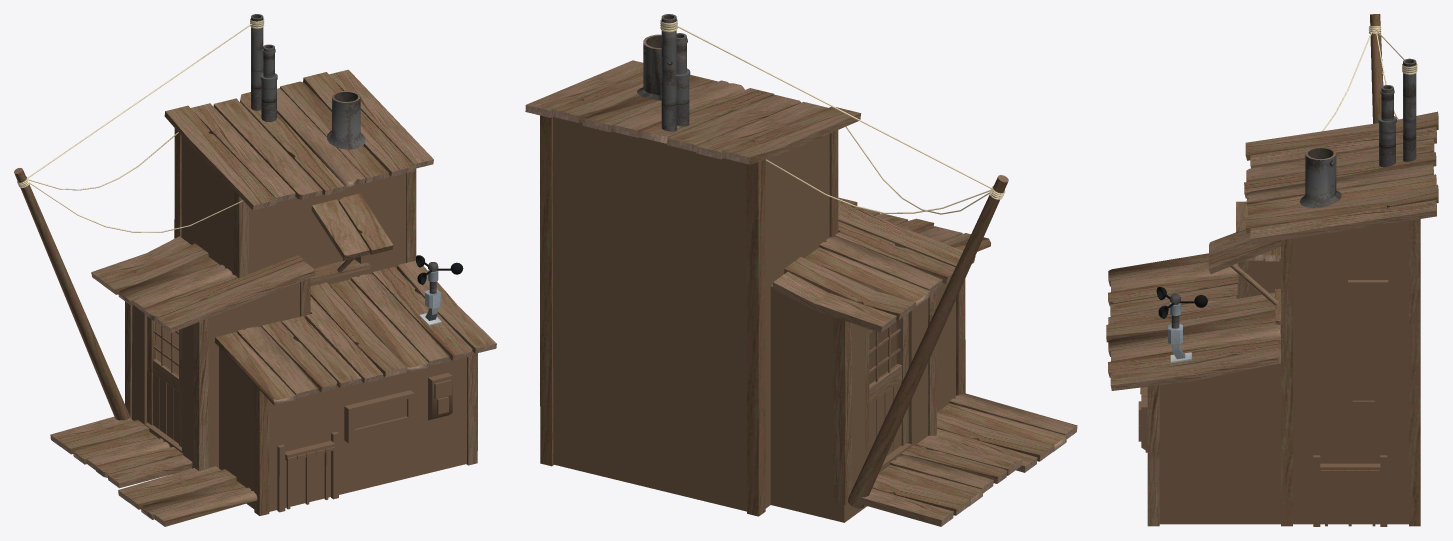
The model's file is title-shack.glb.
3 renders of one model, left to right at view 1: azimuth 30°, elevation 25°; view 2: azimuth 150°, elevation 25°; view 3: azimuth 270°, elevation 25°, orthographic. The views are drawn at different scales.
Parts seen in each view (by area): view 1: shack1; view 2: shack1; view 3: shack1, weaterStation2, weatherSpin.
Boxes of the visible parts, left/top/right/bottom form: shack1: left=14, top=14, right=496, bottom=526; shack1: left=525, top=14, right=1077, bottom=526; shack1: left=1106, top=14, right=1438, bottom=526; weaterStation2: left=1168, top=324, right=1191, bottom=362; weatherSpin: left=1156, top=287, right=1207, bottom=318.
Size of the model in its own units: 3.24 by 3.25 by 2.38.
Materials: 2 (1 with a texture image).
